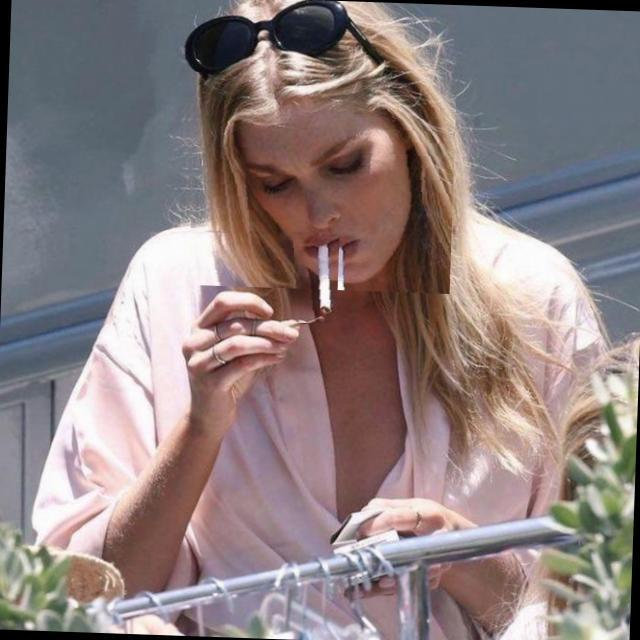cigarette: (289, 232, 339, 324)
